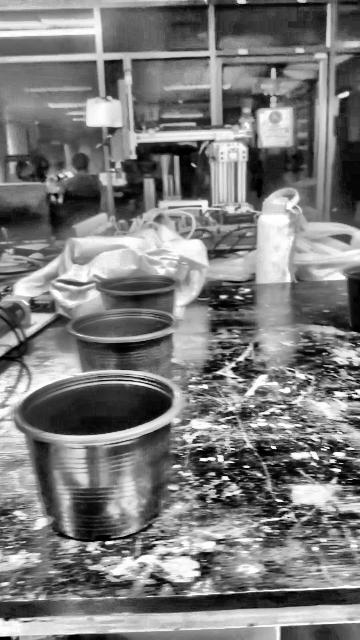pot: (12, 371, 175, 542), (68, 309, 176, 377), (98, 275, 179, 314), (343, 265, 359, 331)
